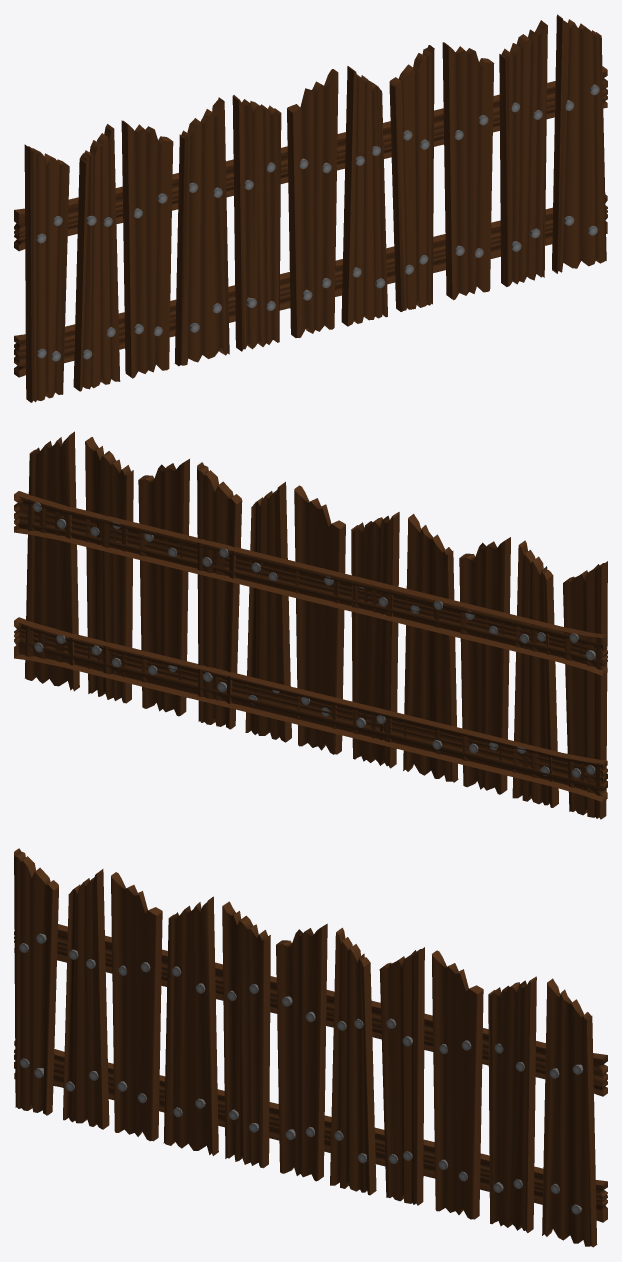
File: Fence 4.fbx
The picture shows the model from 3 angles, top to bottom: view 1: azimuth 30°, elevation 25°; view 2: azimuth 150°, elevation 25°; view 3: azimuth 330°, elevation 25°; orthographic projection.
Visible parts, largest first — view 1: polySurface295; view 2: polySurface295; view 3: polySurface295.
Part boxes in pixels (x1,y1,x2,y2): polySurface295: (14, 14, 607, 402); polySurface295: (14, 431, 607, 819); polySurface295: (14, 848, 607, 1247).
Size of the model in its own units: 7.59 by 3.15 by 0.2778.
